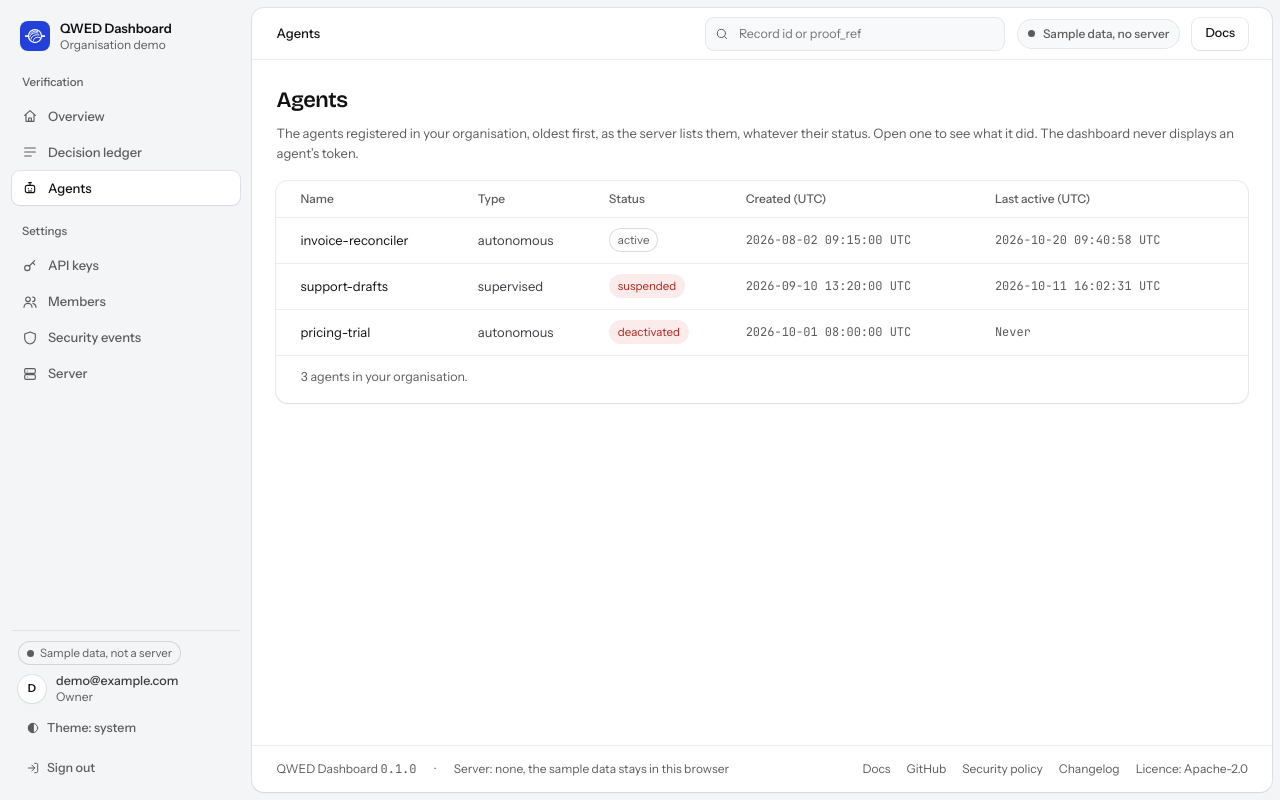
Test: AgentPage › opens from the list, with the sample agent’s activity
Step 1. Click the link "invoice-reconciler" → point(354, 240), box top-left (300, 232), bottom-right (408, 248)
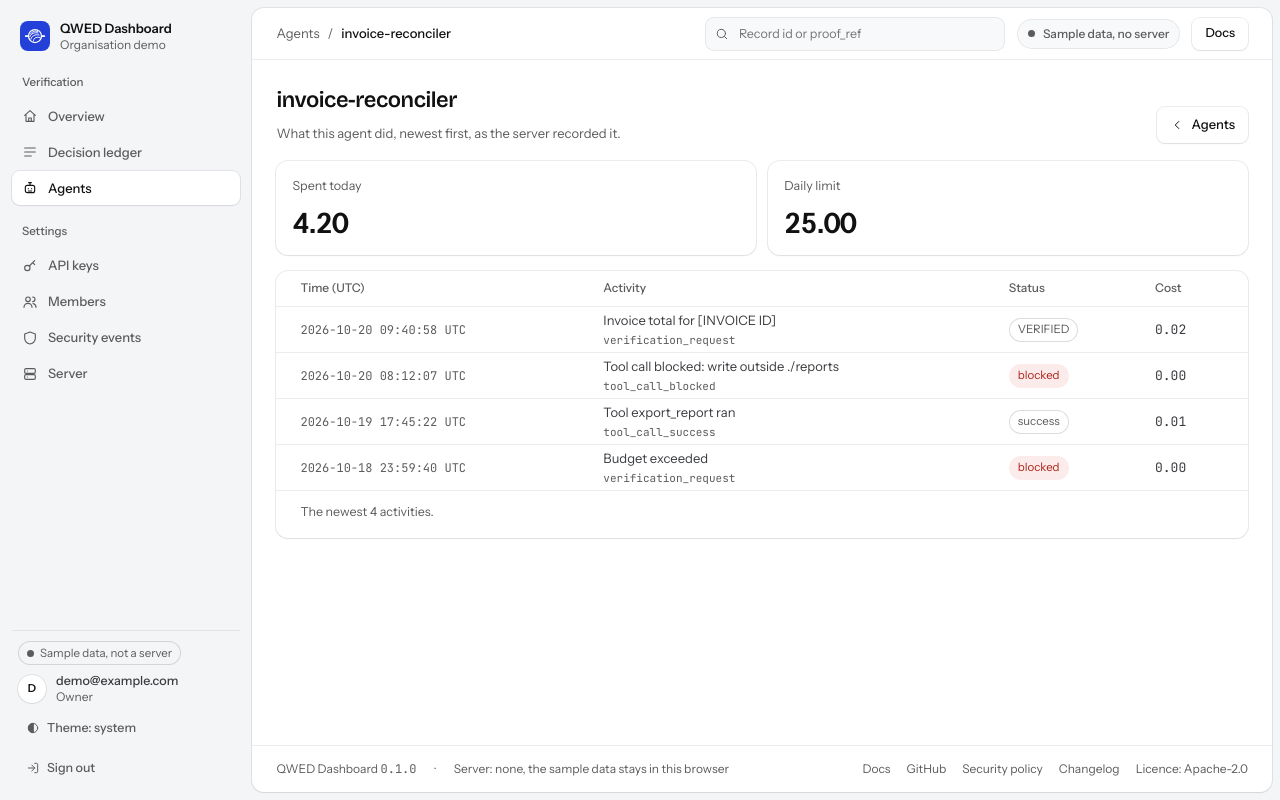
expect the heading "invoice-reconciler" is shown: met, box top-left (276, 87), bottom-right (457, 113)
expect the column heading "Time (UTC)" is shown: met, box top-left (276, 271), bottom-right (591, 307)
expect the column heading "Cost" is shown: met, box top-left (1143, 271), bottom-right (1248, 307)
